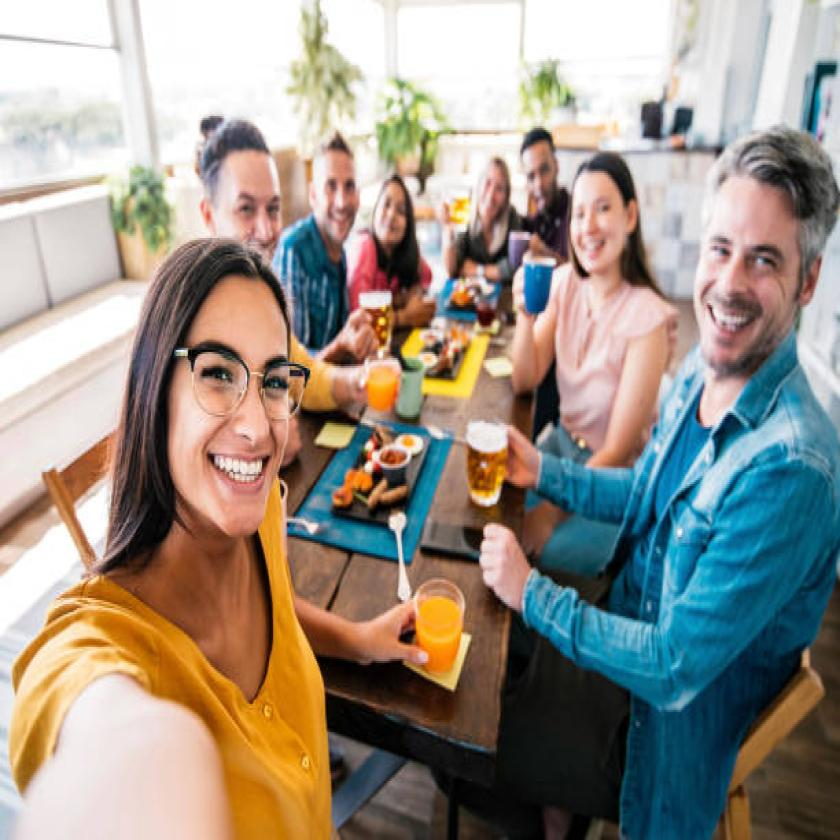Sin_casco: (119, 235, 301, 572), (683, 98, 837, 396), (188, 109, 288, 259), (573, 139, 647, 297), (295, 124, 371, 268), (363, 159, 427, 262), (463, 150, 519, 247), (519, 120, 561, 222)
